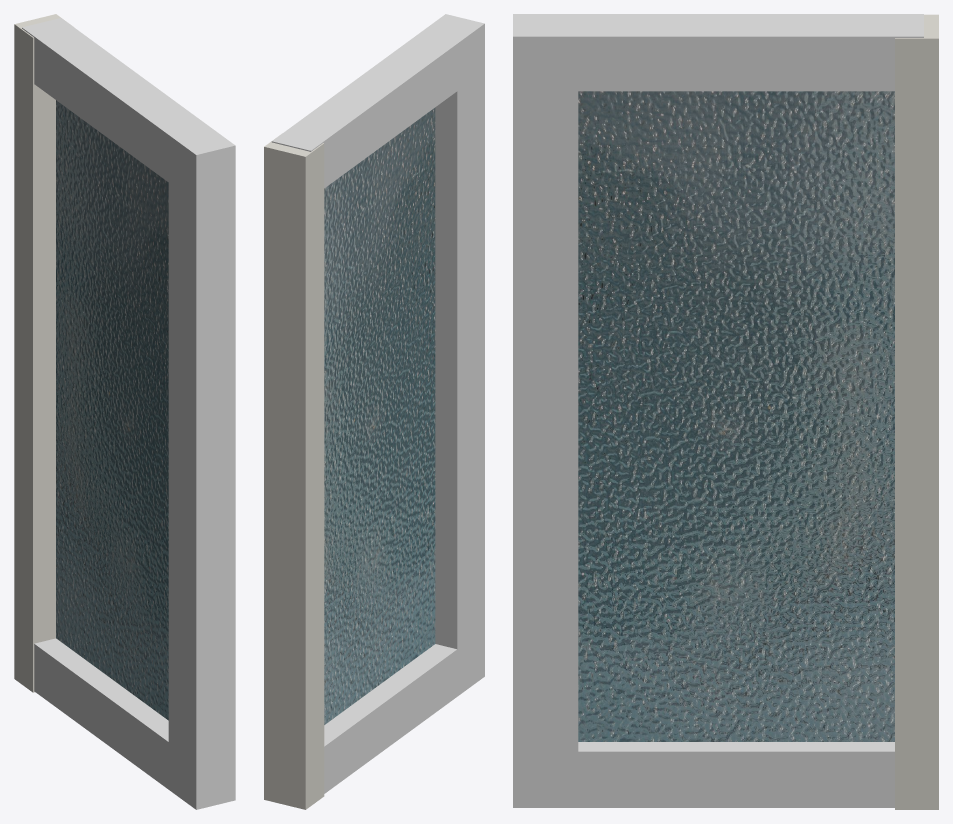
The model's file is windowizq.fbx.
3 renders of one model, left to right at view 1: azimuth 30°, elevation 25°; view 2: azimuth 150°, elevation 25°; view 3: azimuth 270°, elevation 25°, orthographic. The views are drawn at different scales.
Visible parts, largest first — view 1: Marco izquierdo, cristal izquierdo, medio izq; view 2: cristal izquierdo, Marco izquierdo, medio izq; view 3: cristal izquierdo, Marco izquierdo, medio izq.
Boxes of the visible parts, x1=… form: Marco izquierdo: x1=22, y1=18, x2=235, y2=809; cristal izquierdo: x1=56, y1=100, x2=168, y2=720; medio izq: x1=14, y1=14, x2=73, y2=692; cristal izquierdo: x1=324, y1=107, x2=435, y2=724; Marco izquierdo: x1=271, y1=14, x2=484, y2=793; medio izq: x1=264, y1=135, x2=324, y2=809; cristal izquierdo: x1=578, y1=91, x2=894, y2=741; Marco izquierdo: x1=513, y1=14, x2=923, y2=807; medio izq: x1=895, y1=14, x2=938, y2=809.
Bounding box in the file's own units: 13.35 × 200 × 100.
3 materials, 1 textured.
